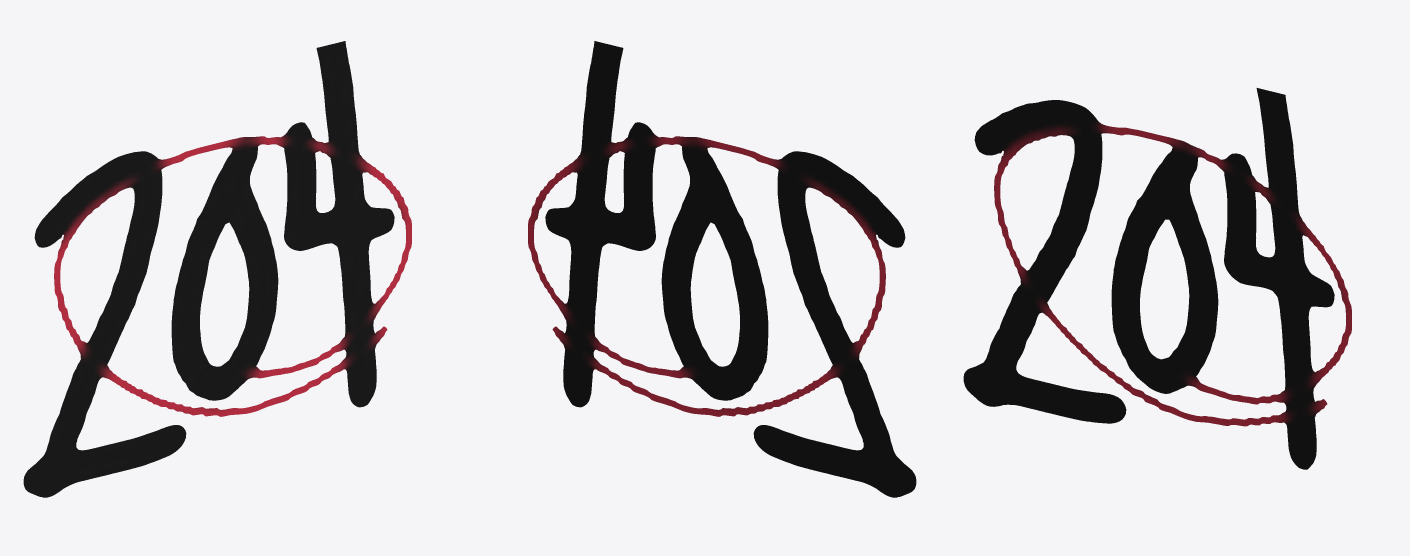
File: 204_graffiti.FBX
The picture shows the model from 3 angles, left to right: view 1: azimuth 30°, elevation 25°; view 2: azimuth 150°, elevation 25°; view 3: azimuth 330°, elevation 25°; orthographic projection.
Visible parts, largest first — view 1: 204_graffiti; view 2: 204_graffiti; view 3: 204_graffiti.
Boxes of the visible parts, <box> form: 204_graffiti: <box>23,41,411,497</box>; 204_graffiti: <box>528,41,916,497</box>; 204_graffiti: <box>963,88,1351,469</box>.
Size of the model in its own units: 33.54 by 30.5 by 1.05e-05.
